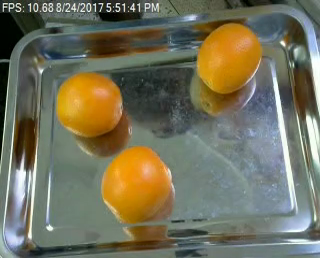Orange: (100, 145, 172, 223), (195, 21, 262, 93), (54, 72, 121, 135)
